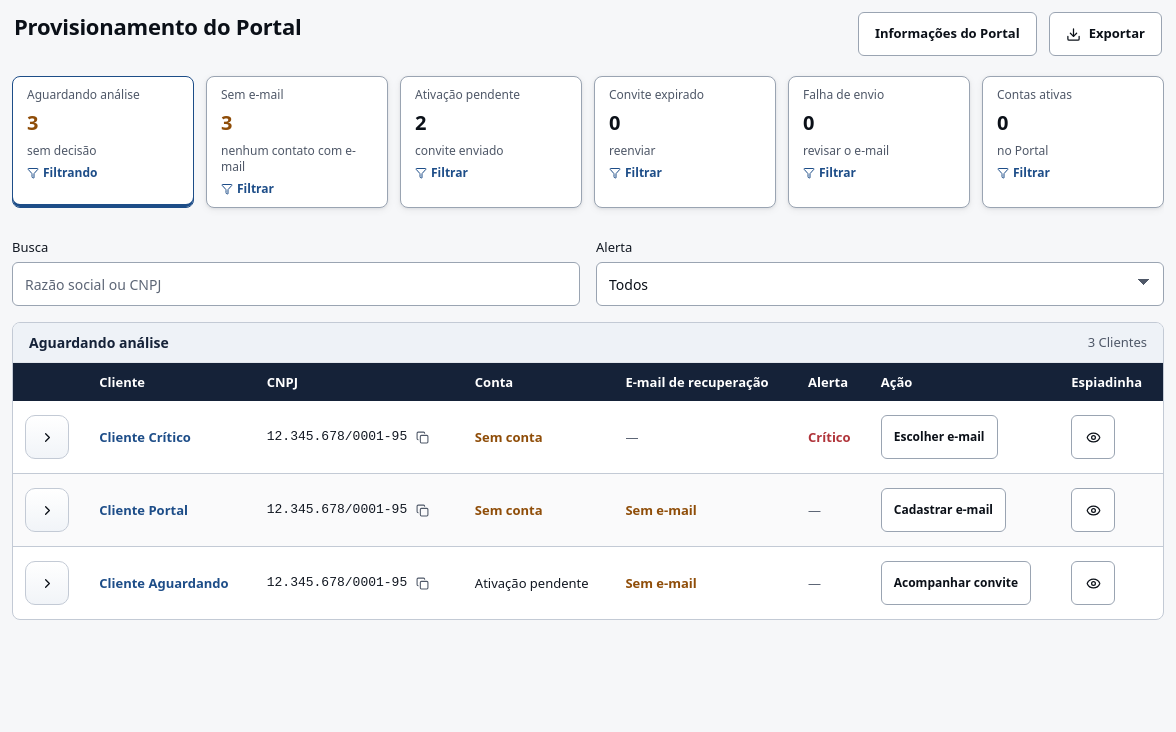
Scenario: ClientesPortal › o filtro Alerta mostra só quem tem alerta crítico, em vermelho
Select "Com alerta crítico" in the dropdown labelled "Alerta": (880, 284) [596,262,1164,306]
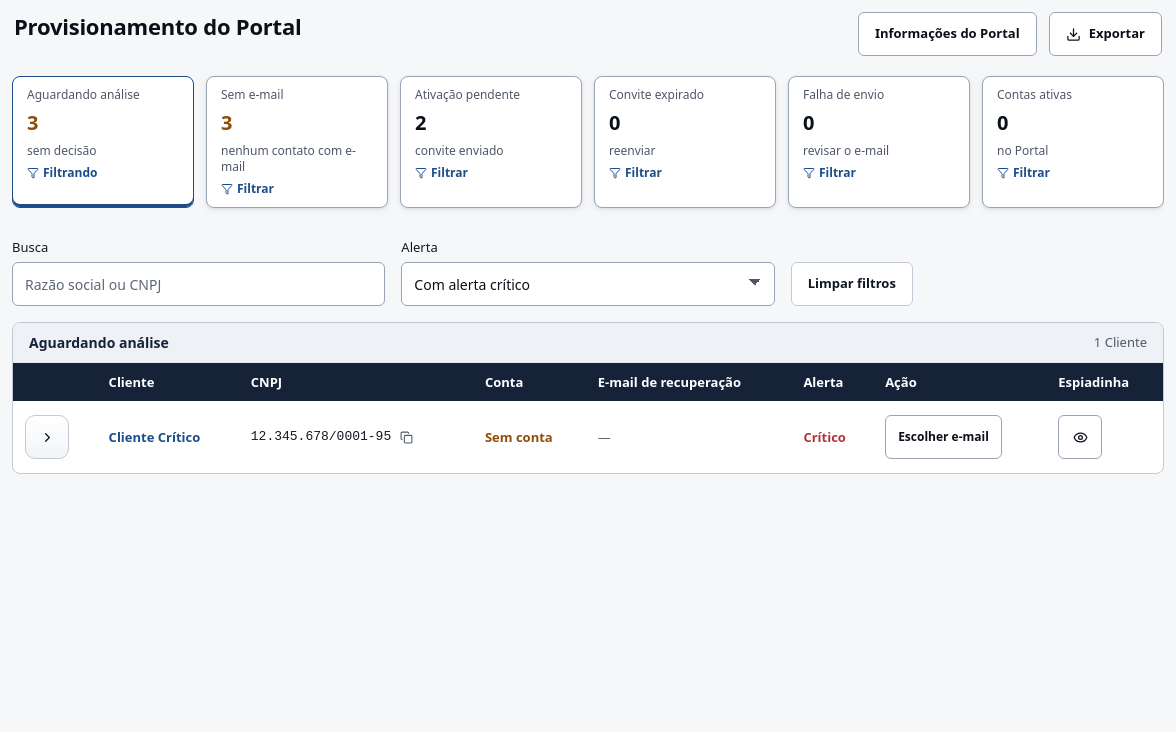
Expected: the button "Cliente Crítico" is shown, [109,428,200,446]
Expected: the button "Cliente Portal" is gone
